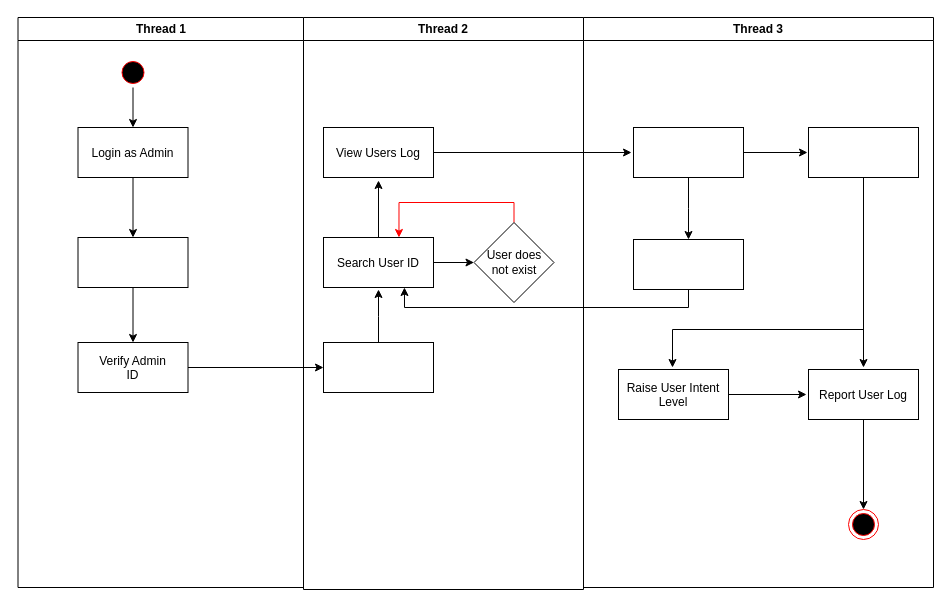
Image size: 951x607. Some labels were removed from this diagram. Each missing label, with the centre of its shape:
"Check Intent Level" goes at point (863, 152).
"Leaves User Log" goes at point (688, 264).
"Menu" goes at point (132, 262).
"Set User Priority" goes at point (688, 152).
"Track User Log" goes at point (378, 367).
